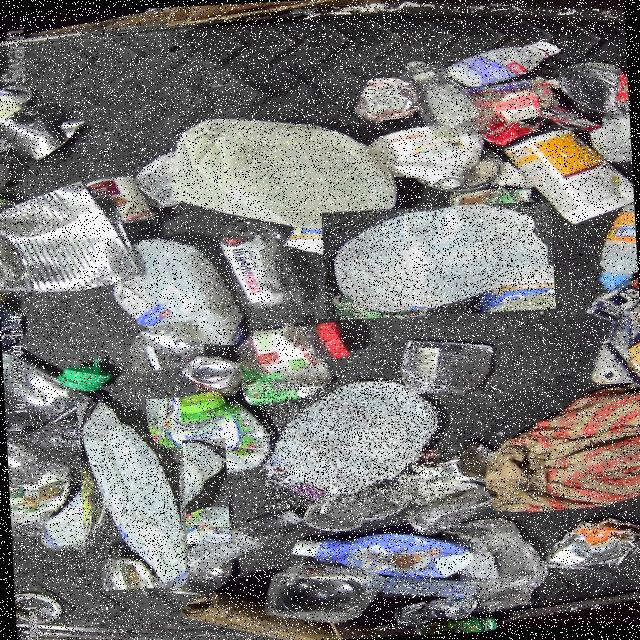milk-jug: (320, 201, 554, 321), (258, 376, 444, 508), (56, 418, 210, 572)
